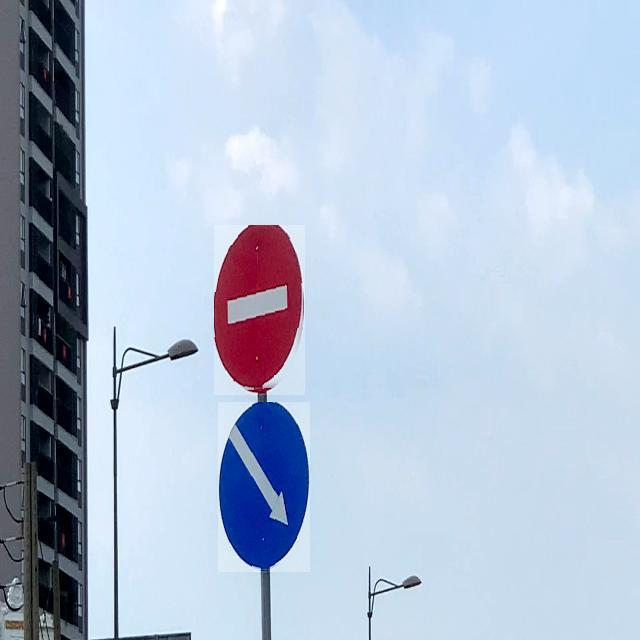P-102: (214, 226, 305, 396)
R-302a: (218, 402, 310, 572)
